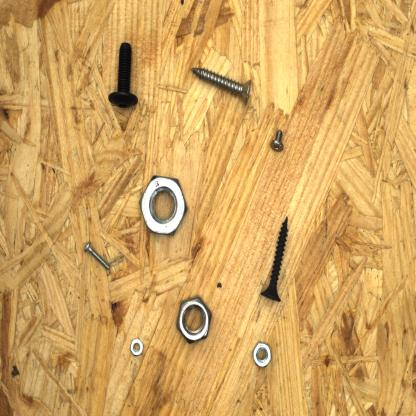screw: (258, 215, 290, 304), (189, 63, 253, 106), (108, 40, 139, 109), (83, 240, 114, 275), (268, 128, 285, 153)
